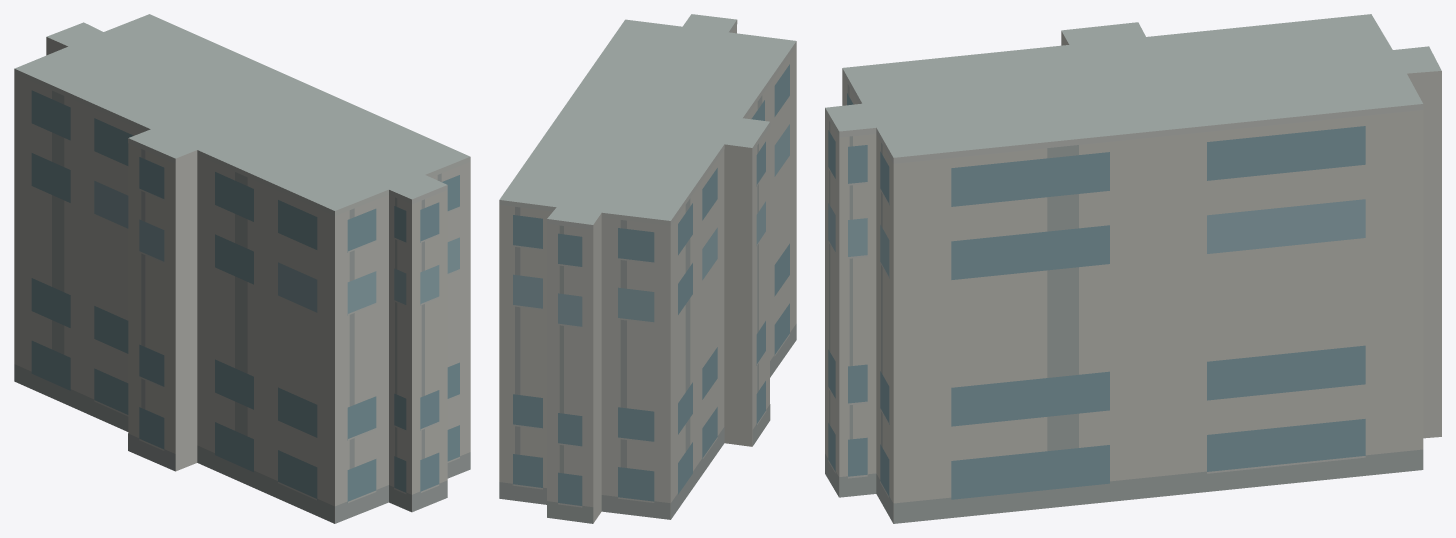
File: survey-upis-32639897.glb
3 views of the same model, side by side, from view 1: azimuth 30°, elevation 25°; view 2: azimuth 150°, elevation 25°; view 3: azimuth 270°, elevation 25° (orthographic). The views are drawn at different scales.
Visible parts, largest first — view 1: survey-upis-32639897.tmp; view 2: survey-upis-32639897.tmp; view 3: survey-upis-32639897.tmp.
Boxes of the visible parts, left/top/right/bottom form: survey-upis-32639897.tmp: left=14, top=14, right=470, bottom=523; survey-upis-32639897.tmp: left=499, top=14, right=796, bottom=523; survey-upis-32639897.tmp: left=825, top=14, right=1441, bottom=523.
Size of the model in its own units: 12.57 by 14.9 by 22.76.
